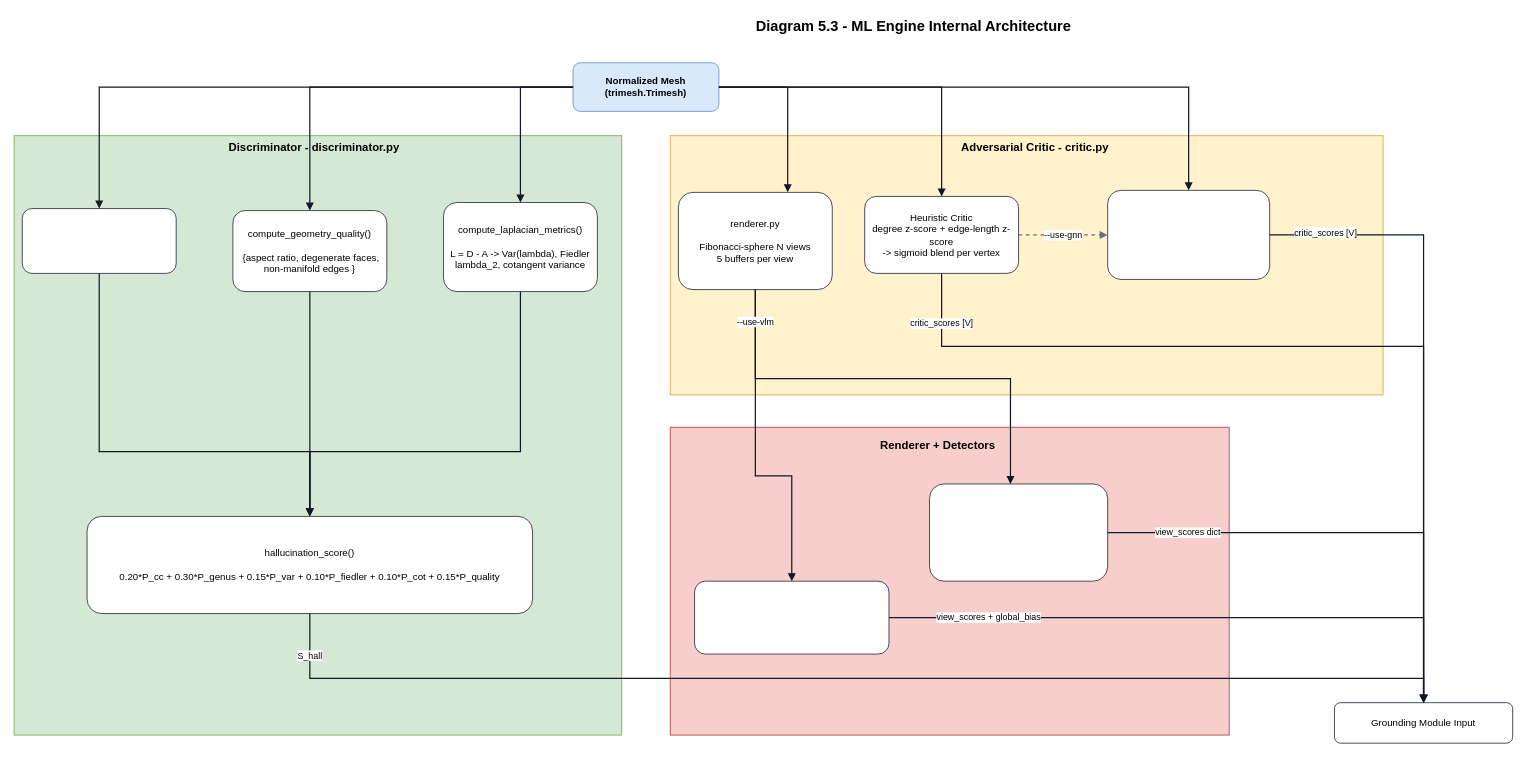
Image size: 1528x757. Some labels were removed from this diagram. The shapes that lost their labels are listed below. From the top down, each one's centre as x and y in pixels, then its label:
At (x=98, y=240): "compute_topology()".
At (x=1188, y=234): "GNN Critic (optional) 2-layer GCNConv input".
At (x=1018, y=532): "view_consistency.py 32x32 grayscale cosine similarity".
At (x=791, y=617): "lmm_detector.py LLaVA v1.5 / v1.6".
